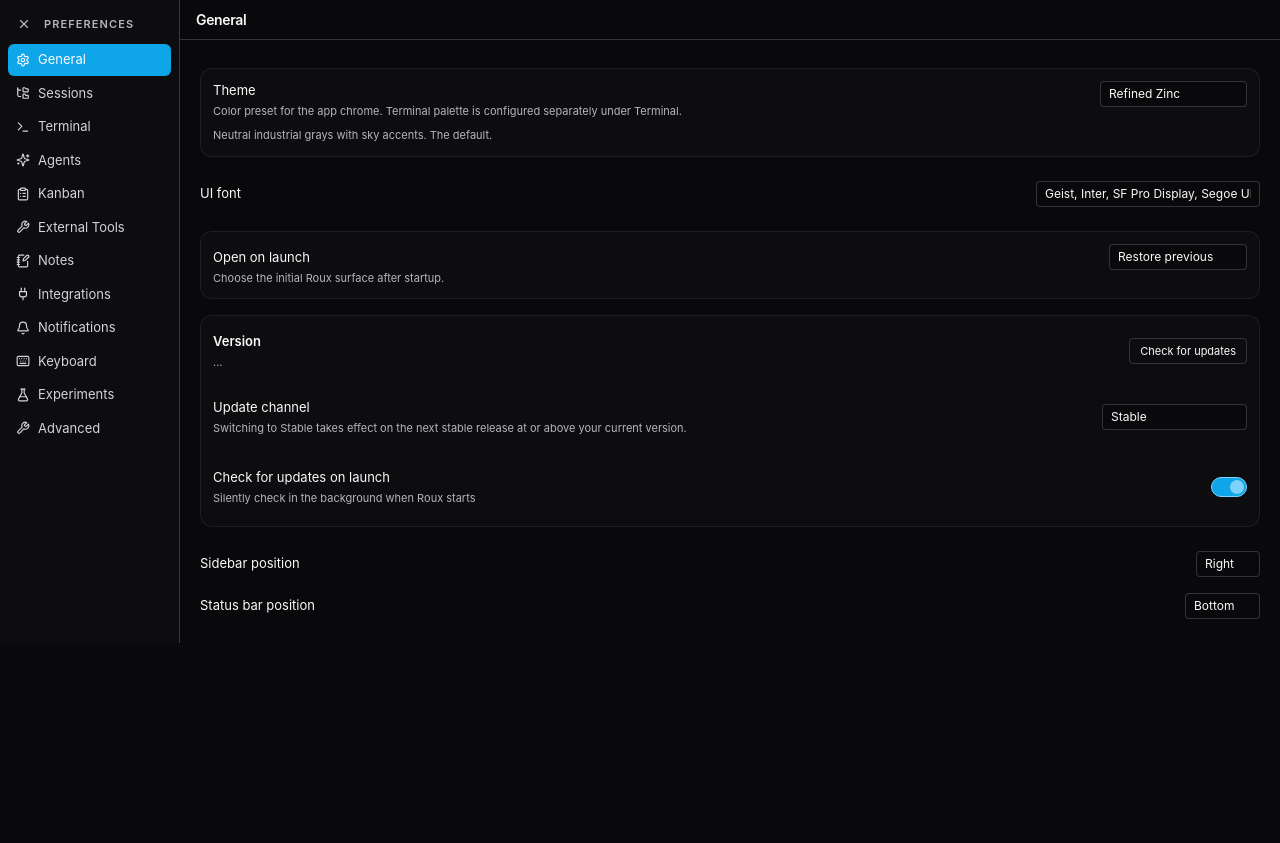
Scenario: SettingsPanel Kanban tab › makes inline workflow fields read-only when JSON owns the workflow
Click the button "Kanban": (90, 194) [8, 178, 171, 210]
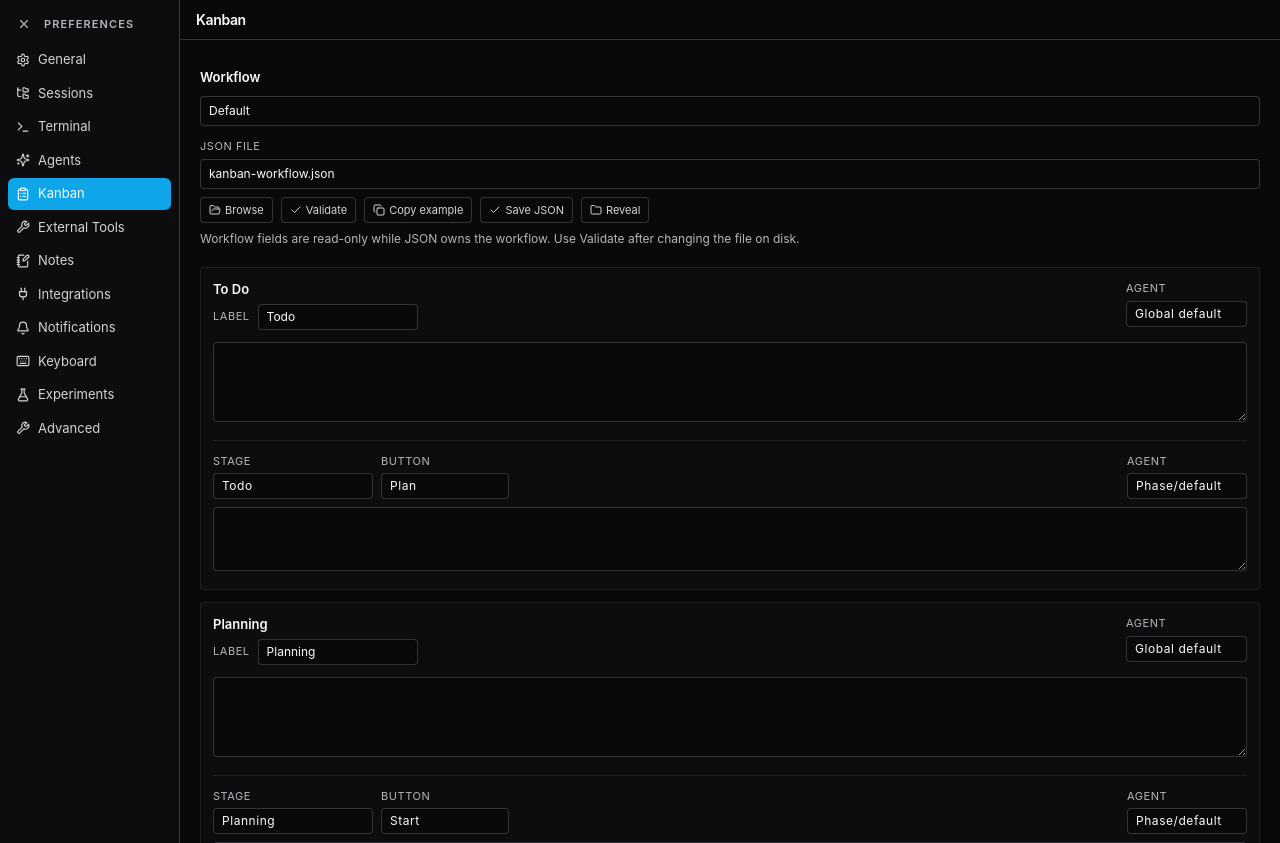
Check: the text box named "Planning instructions" is disabled, box [213, 676, 1247, 756]
Check: the field named "Workflow label" is disabled, box [200, 96, 1260, 126]
Check: the dropdown named "Planning agent" is disabled, box [1126, 636, 1247, 662]
